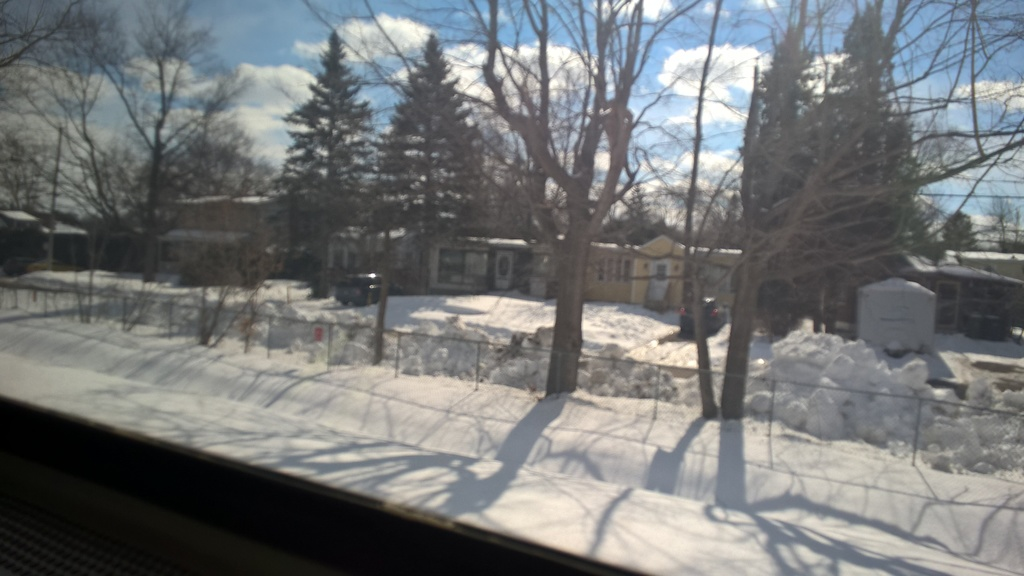Tree: (0, 0, 1023, 423), (15, 0, 266, 291), (783, 0, 928, 333), (367, 28, 491, 303), (734, 24, 823, 334), (262, 25, 376, 264), (136, 97, 272, 213), (0, 0, 119, 114), (976, 187, 1023, 257), (933, 207, 979, 266)
